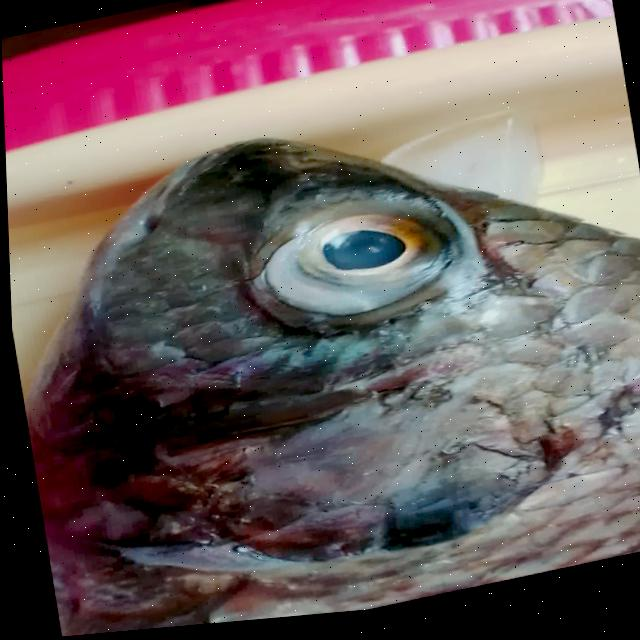Fresh: (227, 173, 494, 360)
